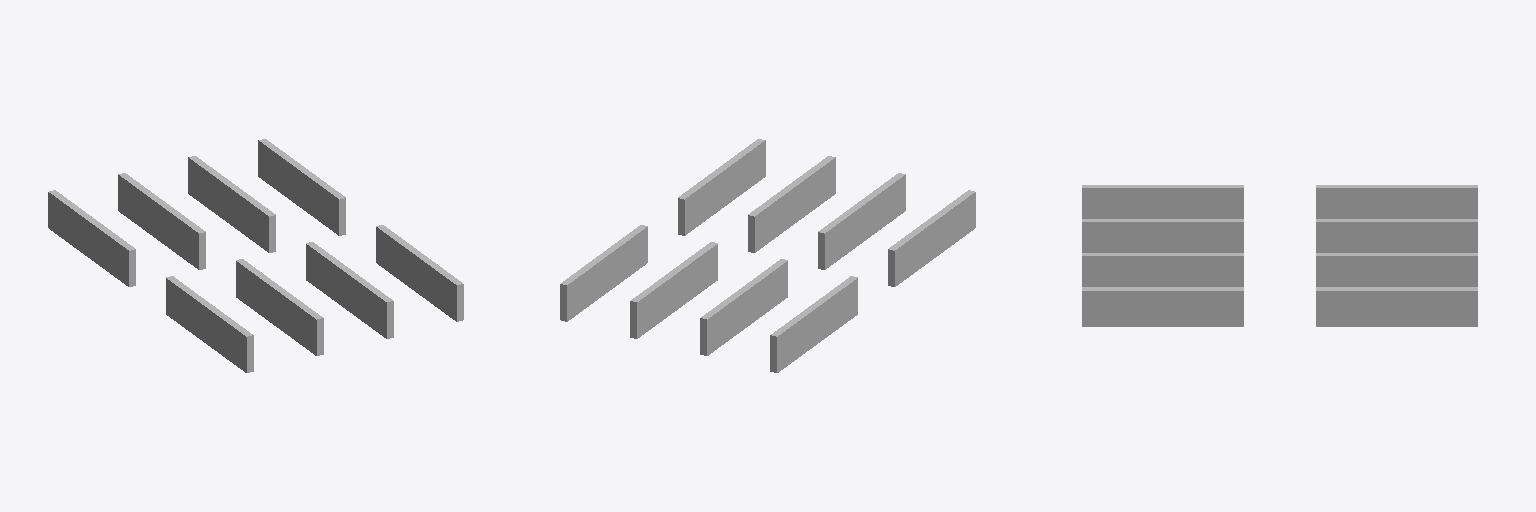
Rendered from glassWalls.obj.
3 views of the same model, side by side, from view 1: azimuth 30°, elevation 25°; view 2: azimuth 150°, elevation 25°; view 3: azimuth 270°, elevation 25° (orthographic).
Visible parts, largest first — view 1: GlassBound_1 GlassBound_5, GlassBound_1 GlassBound_8, GlassBound_6 GlassBound_1, GlassBound_1 GlassBound_4, GlassBound_1 GlassBound_7, GlassBound_1 GlassBound_9, GlassBound_1 GlassBound_3, GlassBound_1 GlassBound_10; view 2: GlassBound_1 GlassBound_4, GlassBound_1 GlassBound_9, GlassBound_1 GlassBound_5, GlassBound_1 GlassBound_3, GlassBound_1 GlassBound_8, GlassBound_1 GlassBound_10, GlassBound_6 GlassBound_1, GlassBound_1 GlassBound_7; view 3: GlassBound_6 GlassBound_1, GlassBound_1 GlassBound_10, GlassBound_1 GlassBound_5, GlassBound_1 GlassBound_4, GlassBound_1 GlassBound_3, GlassBound_1 GlassBound_7, GlassBound_1 GlassBound_8, GlassBound_1 GlassBound_9.
Boxes of the visible parts, x1=… form: GlassBound_1 GlassBound_5: x1=188, y1=156, x2=275, y2=252; GlassBound_1 GlassBound_8: x1=236, y1=259, x2=323, y2=355; GlassBound_6 GlassBound_1: x1=258, y1=139, x2=345, y2=235; GlassBound_1 GlassBound_4: x1=118, y1=173, x2=205, y2=269; GlassBound_1 GlassBound_7: x1=166, y1=276, x2=253, y2=372; GlassBound_1 GlassBound_9: x1=306, y1=242, x2=393, y2=338; GlassBound_1 GlassBound_3: x1=48, y1=190, x2=135, y2=286; GlassBound_1 GlassBound_10: x1=376, y1=225, x2=463, y2=321; GlassBound_1 GlassBound_4: x1=700, y1=259, x2=787, y2=355; GlassBound_1 GlassBound_9: x1=748, y1=156, x2=835, y2=252; GlassBound_1 GlassBound_5: x1=630, y1=242, x2=717, y2=338; GlassBound_1 GlassBound_3: x1=770, y1=276, x2=857, y2=372; GlassBound_1 GlassBound_8: x1=818, y1=173, x2=905, y2=269; GlassBound_1 GlassBound_10: x1=678, y1=139, x2=765, y2=235; GlassBound_6 GlassBound_1: x1=560, y1=225, x2=647, y2=321; GlassBound_1 GlassBound_7: x1=888, y1=190, x2=975, y2=286; GlassBound_6 GlassBound_1: x1=1316, y1=287, x2=1477, y2=326; GlassBound_1 GlassBound_10: x1=1082, y1=287, x2=1243, y2=326; GlassBound_1 GlassBound_5: x1=1316, y1=253, x2=1477, y2=286; GlassBound_1 GlassBound_4: x1=1316, y1=219, x2=1477, y2=252; GlassBound_1 GlassBound_3: x1=1316, y1=185, x2=1477, y2=218; GlassBound_1 GlassBound_7: x1=1082, y1=185, x2=1243, y2=218; GlassBound_1 GlassBound_8: x1=1082, y1=219, x2=1243, y2=252; GlassBound_1 GlassBound_9: x1=1082, y1=253, x2=1243, y2=286.
Size of the model in its own units: 6.2 by 1 by 9.8.